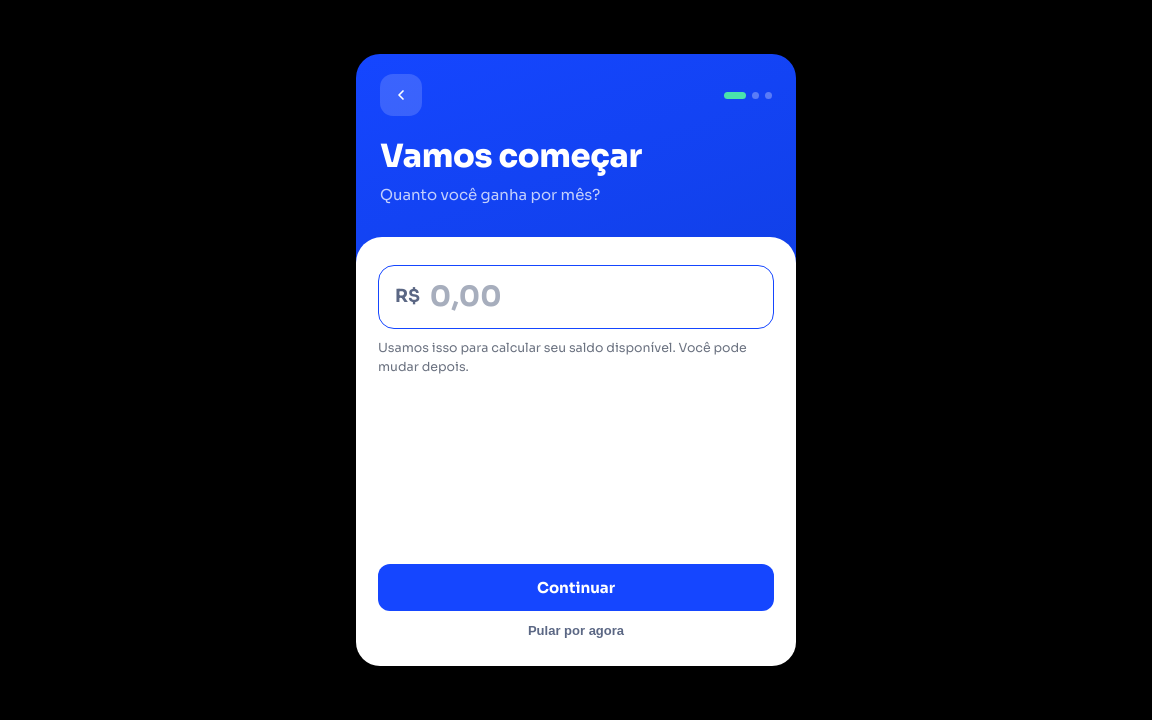
Test case: OnboardingModal — fluxo de conclusão › botão de voltar no passo 2 retorna pro passo 1, sem pular
The width and height of the screenshot is (1152, 720).
Click the button "Pular por agora". click: x=576, y=630
box: [378,623,774,638]
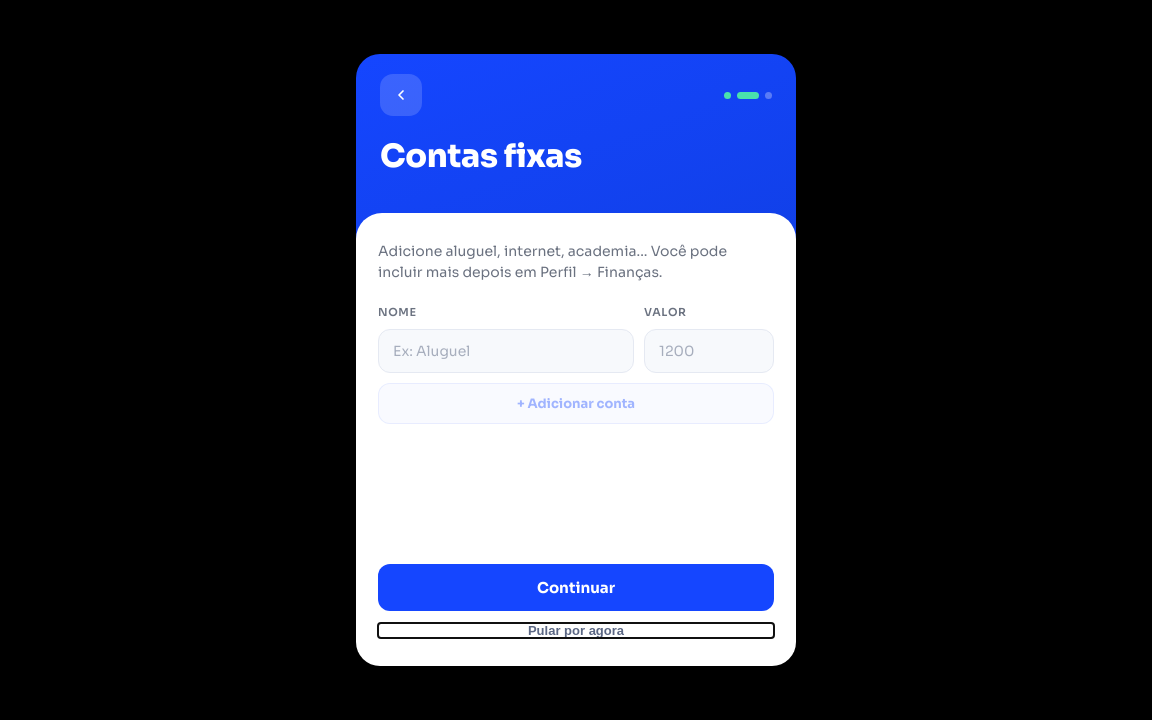
Click the button named "Voltar". click: x=401, y=95
box: [380,74,422,116]
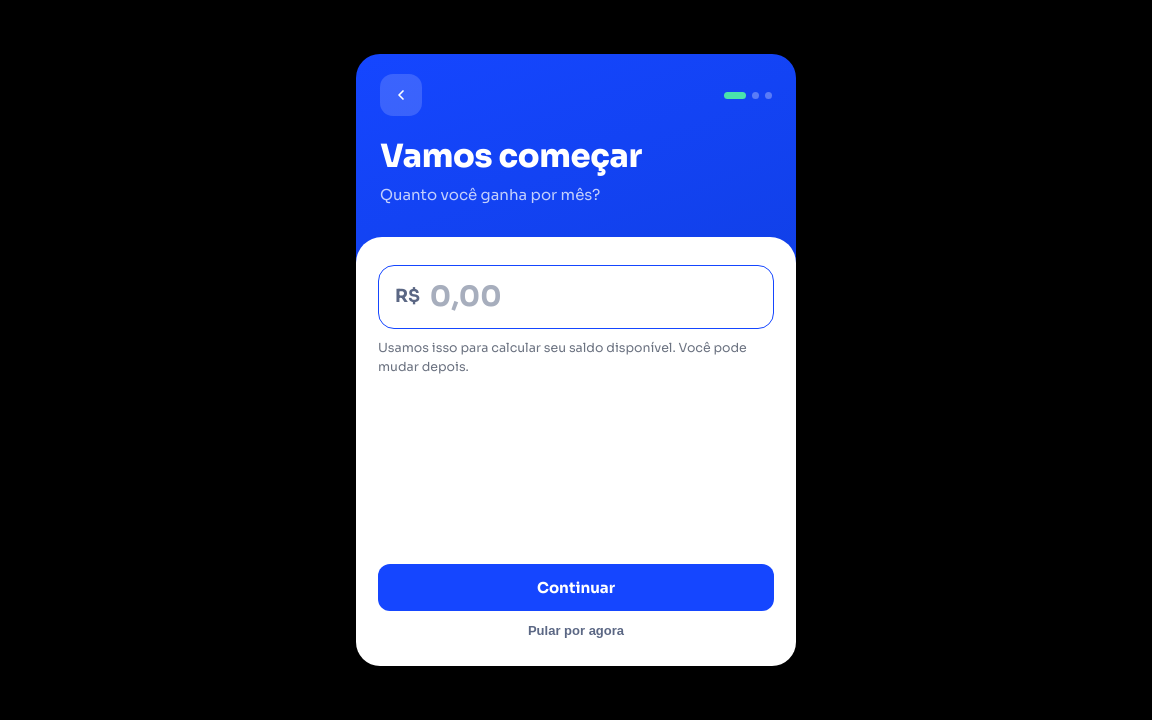
Result: the text "Quanto você ganha por mês?" is shown at [380,185,600,204]
